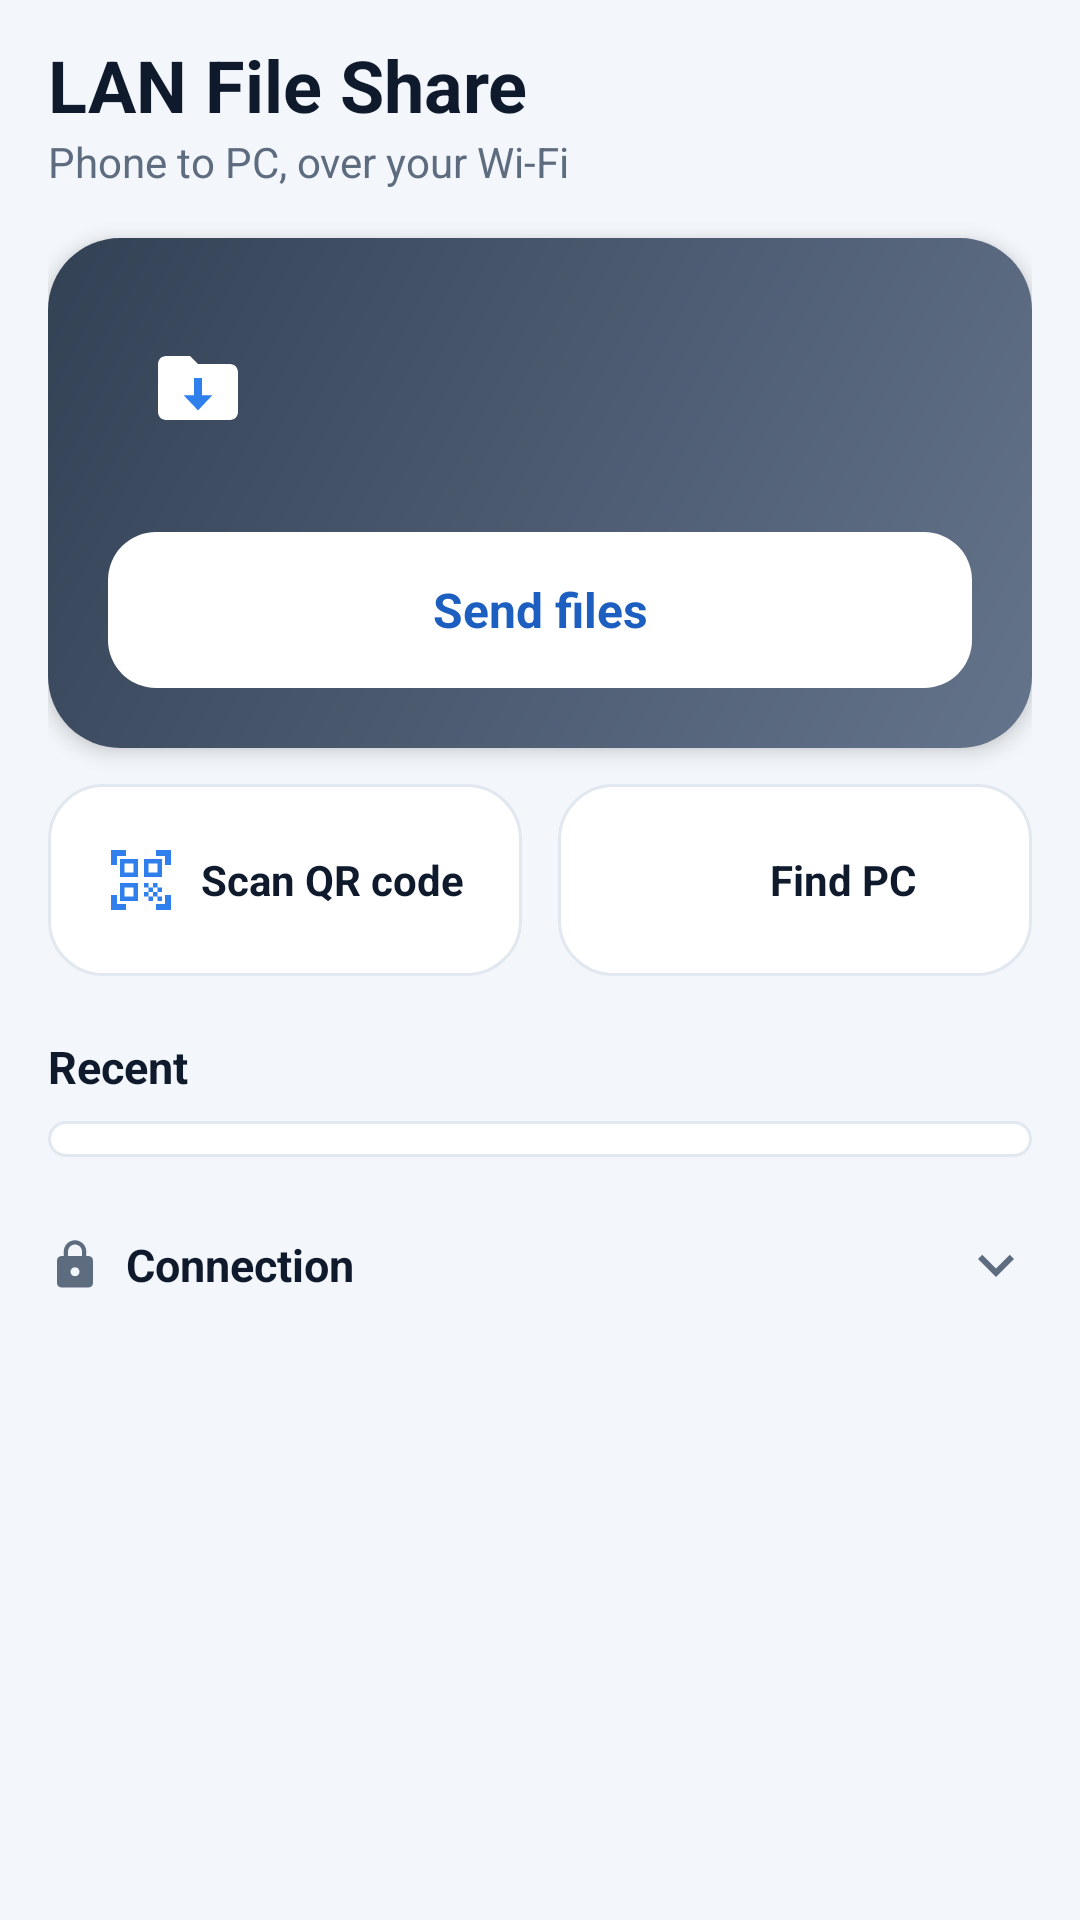

Where to tap for icons on this 1080px x 1920px app screen, as (x,y):
expand: (996,1266)
lock: (75,1264)
